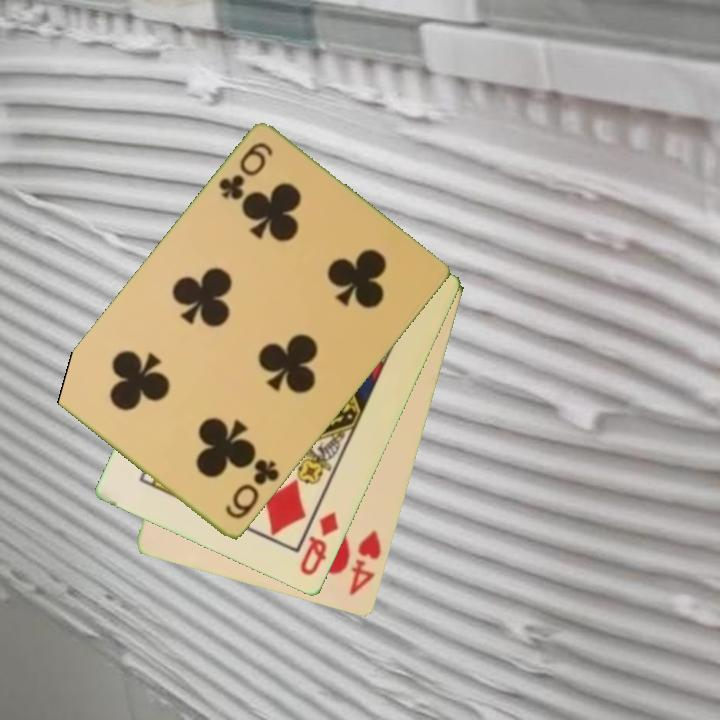4h: (346, 527, 385, 600)
6c: (221, 456, 282, 523), (215, 139, 276, 204)
Qd: (296, 509, 342, 579)
